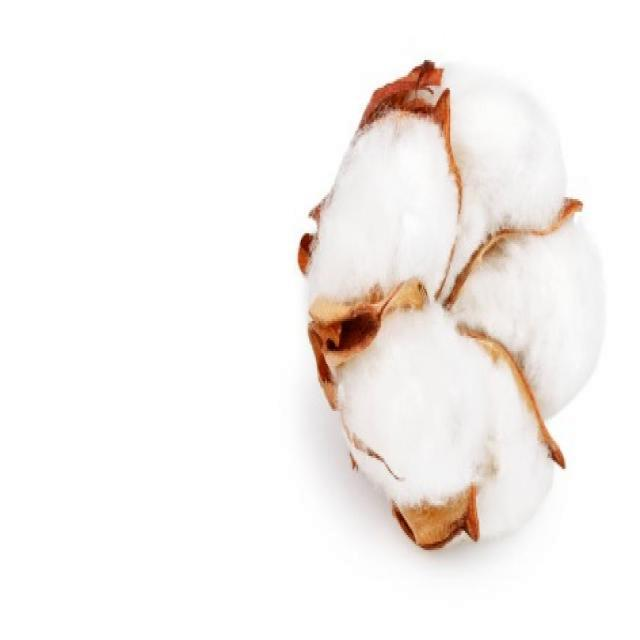Matured Cotton Boll: (296, 52, 614, 555)
